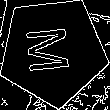M_E: (26, 26, 80, 77)
